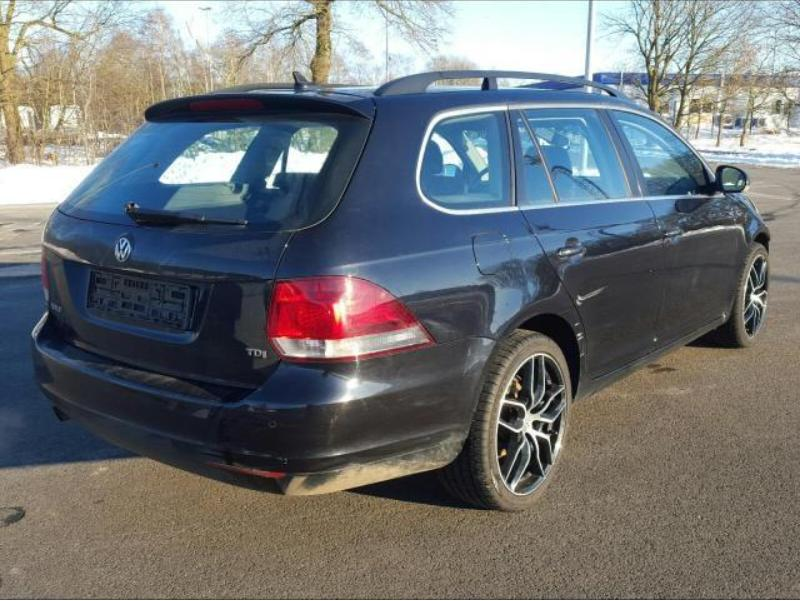Back-bumper: (31, 316, 488, 496)
Back-door: (509, 109, 665, 379)
Back-wheel: (446, 327, 578, 514)
Back-window: (511, 111, 633, 209), (417, 106, 515, 216)
Back-windshield: (54, 115, 379, 238)
Fender: (725, 196, 771, 279)
Front-door: (608, 110, 740, 350)
Front-wheel: (735, 241, 774, 344)
Front-window: (606, 110, 709, 198)
Mirror: (708, 164, 751, 197)
Quarter-panel: (271, 196, 587, 399)
Rocker-panel: (575, 314, 736, 401)
Roof: (212, 72, 630, 111)
Tail-light: (263, 272, 440, 366), (40, 253, 51, 316)
Trunk: (42, 208, 291, 390), (145, 89, 375, 118)
